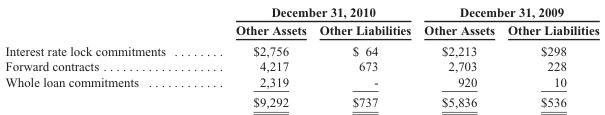table: (4, 4, 598, 109)
table column: (4, 4, 200, 109), (200, 4, 312, 109), (312, 4, 416, 109), (500, 4, 598, 109), (416, 4, 500, 109)
table column header: (4, 4, 598, 40)
table row: (4, 20, 598, 40), (4, 40, 598, 58), (4, 73, 598, 91), (4, 91, 598, 109), (4, 4, 598, 20), (4, 58, 598, 73)
table spanning cell: (200, 4, 416, 20), (416, 4, 598, 20)
